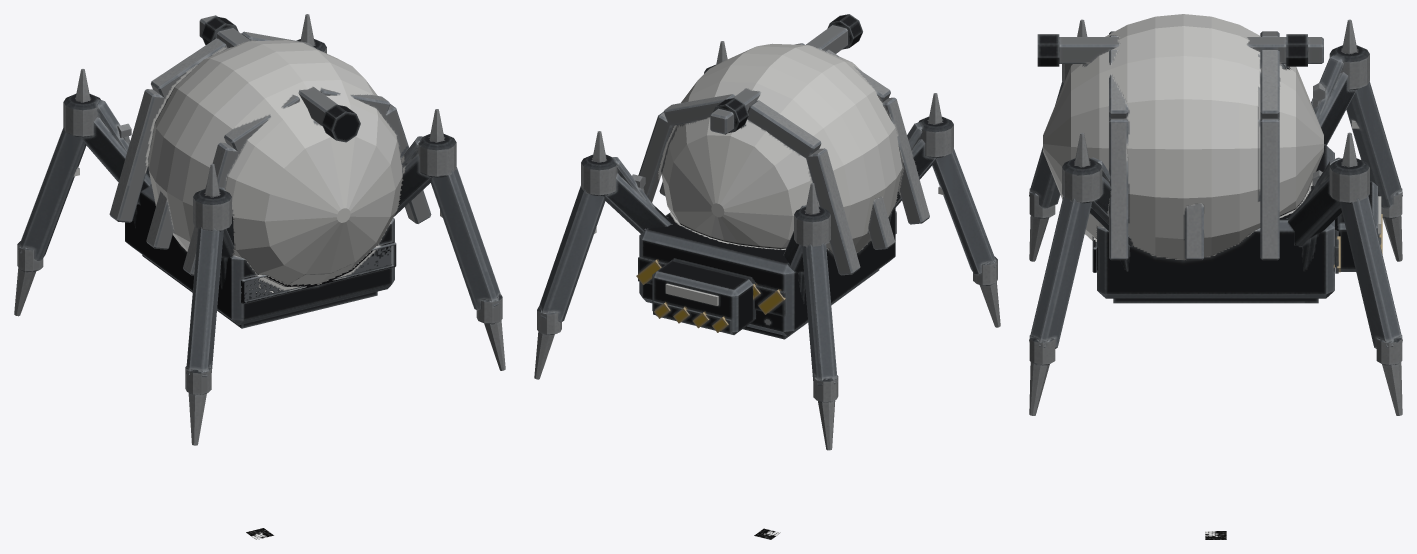
File: chs_pustule.fbx
3 views of the same model, side by side, from view 1: azimuth 30°, elevation 25°; view 2: azimuth 150°, elevation 25°; view 3: azimuth 270°, elevation 25° (orthographic). The views are drawn at different scales.
Visible parts, largest first — view 1: base_glow_power_bar, base_bar, shinBR_bar, shinBL_bar, shinFL_bar, thighFL_bar, thighBR_bar, thighBL_bar; view 2: base_glow_power_bar, base_bar, torso_bar, shinFR_bar, shinFL_bar, shinBL_bar, thighFR_bar, thighBL_bar, thighFL_bar, torso_glow_head_bar; view 3: base_glow_power_bar, base_bar, shinBR_bar, shinFR_bar, shinFL_bar, thighFR_bar, thighFL_bar, thighBR_bar, shinBL_bar, torso_bar.
Part boxes in pixels (x1,y1,x2,y2): base_glow_power_bar: (148,40,402,291); base_bar: (109,15,431,328); shinBR_bar: (429,109,505,370); shinBL_bar: (185,163,223,445); shinFL_bar: (14,69,90,316); thighFL_bar: (63,94,151,226); thighBR_bar: (372,134,456,262); thighBL_bar: (193,187,247,290); base_glow_power_bar: (661,43,902,252); base_bar: (636,14,929,339); torso_bar: (652,260,753,334); shinFR_bar: (534,131,606,379); shinFL_bar: (802,183,838,450); shinBL_bar: (928,93,1000,327); thighFR_bar: (581,154,671,233); thighBL_bar: (888,116,953,223); thighFL_bar: (783,205,830,302); torso_glow_head_bar: (665,283,718,305); base_glow_power_bar: (1043,14,1323,260); base_bar: (1037,31,1340,303); shinBR_bar: (1029,132,1091,415); shinFR_bar: (1340,132,1402,415); shinFL_bar: (1342,19,1402,261); thighFR_bar: (1287,157,1369,271); thighFL_bar: (1311,45,1369,145); thighBR_bar: (1062,157,1133,271); shinBL_bar: (1029,19,1087,261); torso_bar: (1335,181,1382,271).
Bounding box in the file's own units: 346 × 520 × 346.
2 materials, 2 textured.
